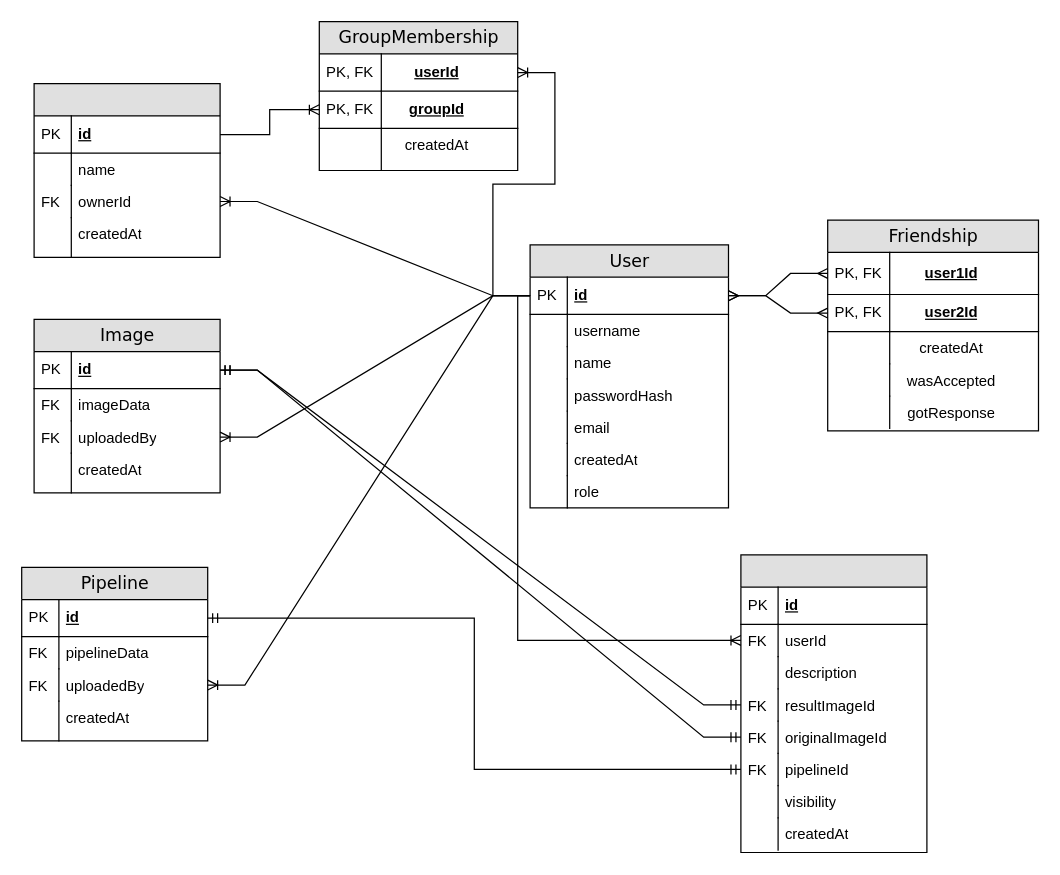
The diagram is 1060 pixels wide and 875 high, and some of its shapes have lost their labels. Each missing label, with the box of its shape:
Group: (33, 82, 220, 257)
Post: (740, 554, 927, 852)
